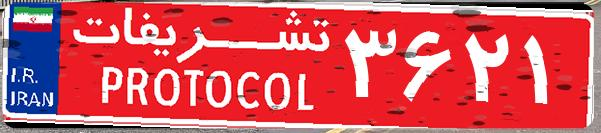1: (520, 20, 580, 115)
2: (460, 20, 520, 115)
3: (340, 20, 400, 115)
6: (400, 20, 460, 115)
تشریفات: (60, 8, 340, 125)
